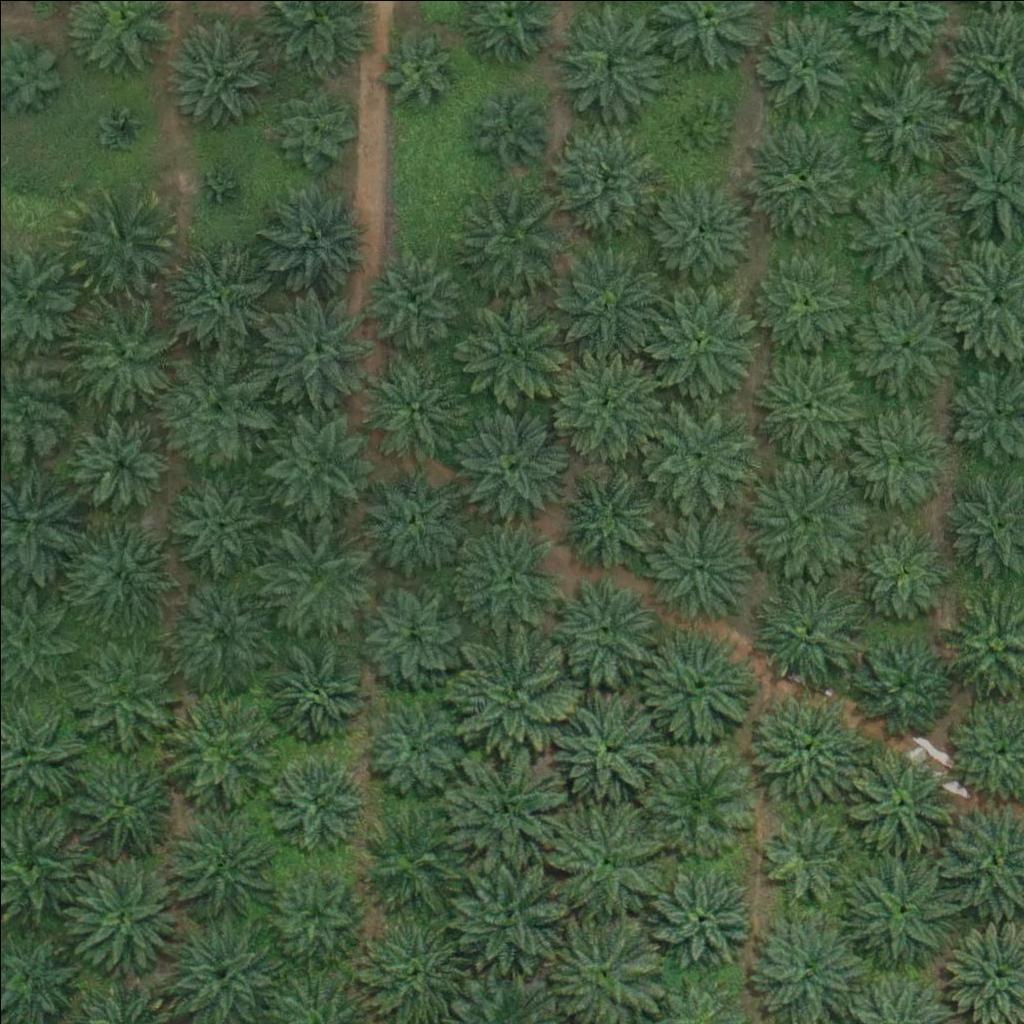Kelapa_Sawit: (162, 809, 275, 923), (64, 633, 177, 747), (61, 513, 174, 627), (547, 124, 660, 238), (641, 283, 754, 397), (843, 855, 956, 968), (842, 750, 955, 863), (748, 690, 861, 803), (638, 631, 751, 744), (452, 856, 565, 969), (450, 750, 563, 863), (456, 635, 569, 748), (67, 856, 180, 969), (65, 747, 178, 860), (257, 404, 370, 517), (257, 291, 370, 404), (254, 176, 367, 289), (359, 355, 472, 468), (543, 344, 656, 457), (549, 249, 662, 362), (642, 509, 755, 622), (638, 393, 751, 506), (751, 574, 864, 687), (746, 460, 859, 573), (553, 1, 666, 114), (162, 684, 274, 798), (746, 345, 858, 459), (64, 187, 176, 300), (752, 908, 864, 1021), (640, 745, 752, 858), (546, 803, 658, 916), (548, 697, 660, 810), (355, 802, 467, 915), (166, 576, 278, 689), (66, 297, 178, 410), (166, 351, 278, 464), (162, 244, 274, 357), (263, 522, 375, 635), (451, 518, 563, 631), (454, 407, 566, 520), (449, 295, 561, 408), (450, 188, 562, 301), (544, 573, 656, 686), (744, 120, 856, 233), (845, 283, 957, 396), (841, 173, 953, 286), (847, 64, 959, 177), (162, 13, 274, 126), (853, 635, 953, 736), (753, 802, 853, 903), (653, 869, 753, 970), (363, 697, 463, 798), (361, 578, 461, 679), (261, 636, 361, 737), (69, 412, 169, 513), (167, 471, 267, 572), (361, 474, 461, 575), (360, 247, 460, 348), (551, 468, 651, 569), (751, 11, 851, 112), (266, 750, 366, 850), (646, 180, 746, 280), (753, 249, 853, 349), (852, 517, 952, 617), (847, 403, 947, 503), (272, 865, 360, 953), (268, 80, 355, 168), (467, 82, 542, 158), (381, 32, 456, 107), (663, 92, 725, 155), (190, 159, 240, 210), (96, 103, 146, 154)
